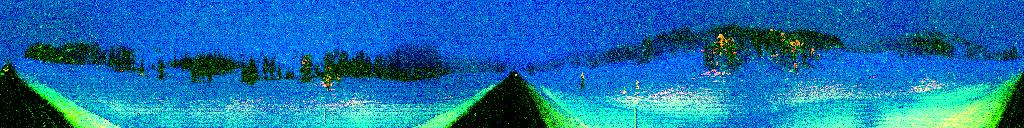pole: (632, 105, 640, 128), (322, 104, 329, 128)
